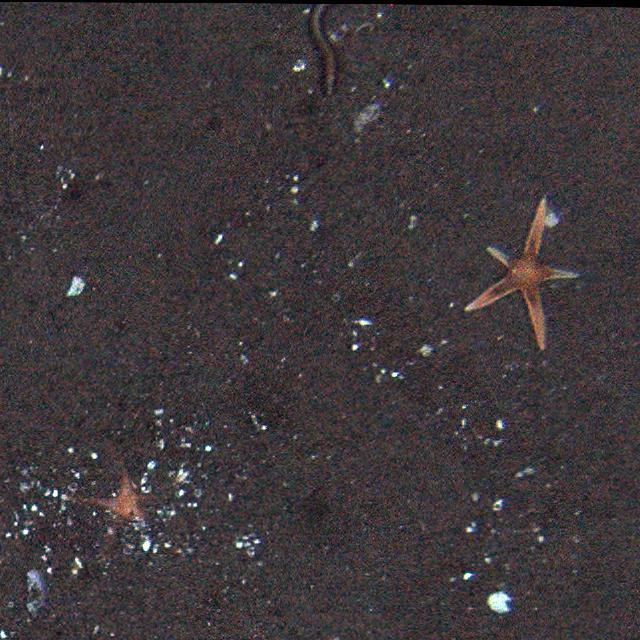eel: (310, 0, 346, 99)
